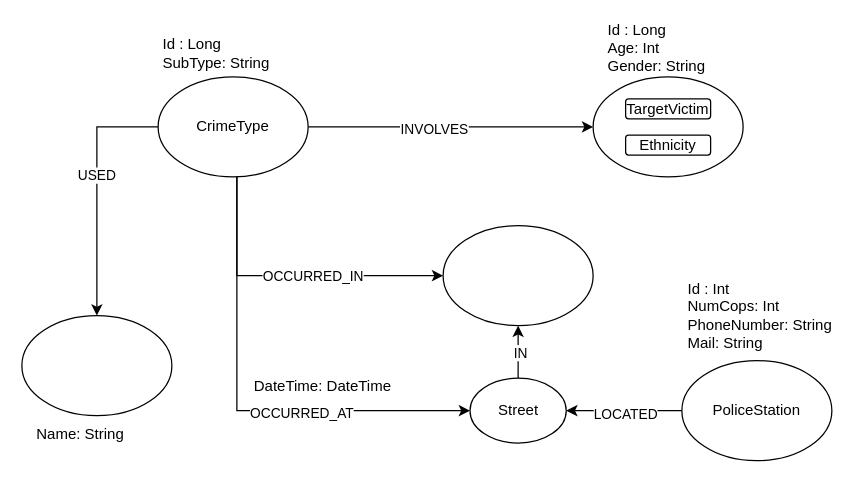
This 868x483 diagram has some shape labels left out. The centre of each missing label's shape, as x and y in pixels:
"DistrictName" goes at point 517,275.
"WeaponType" goes at point 96,365.
